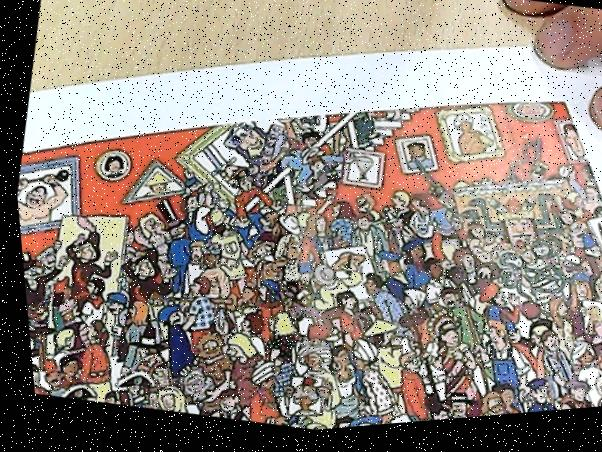waldo: (135, 357, 166, 390)
